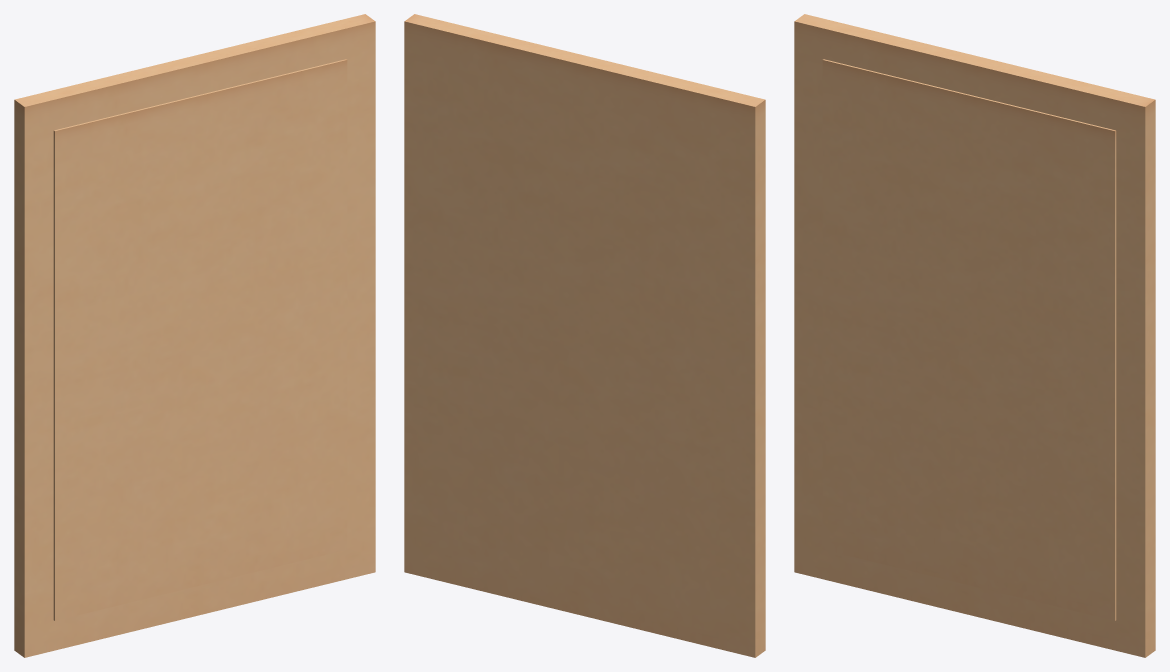
Rendered from Mirror.fbx.
3 renders of one model, left to right at view 1: azimuth 30°, elevation 25°; view 2: azimuth 150°, elevation 25°; view 3: azimuth 330°, elevation 25°, orthographic.
Visible parts, largest first — view 1: Mirror; view 2: Mirror; view 3: Mirror.
Part boxes in pixels (left/top/right/bottom): Mirror: left=14, top=14, right=375, bottom=657; Mirror: left=404, top=14, right=765, bottom=657; Mirror: left=794, top=14, right=1155, bottom=657.
Size of the model in its own units: 0.6 by 0.9 by 0.033.
